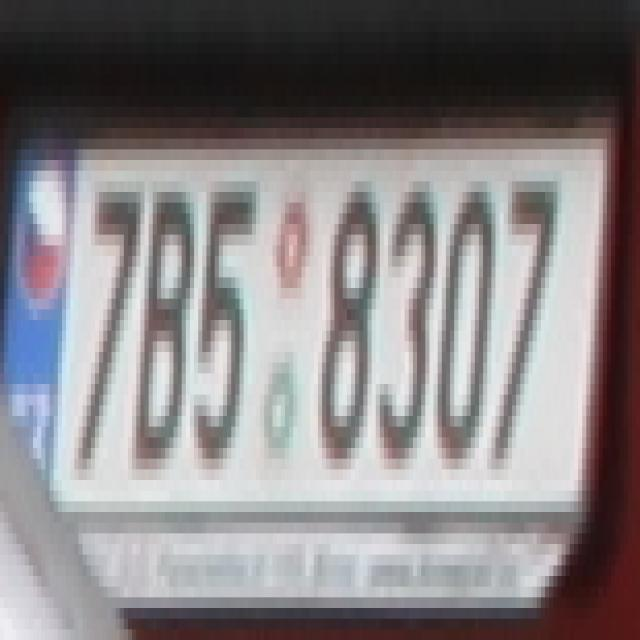0: (434, 181, 492, 448)
3: (372, 160, 434, 470)
5: (194, 181, 256, 448)
7: (70, 181, 140, 480), (492, 181, 562, 480)
8: (314, 181, 376, 448)
B: (136, 181, 190, 448)
